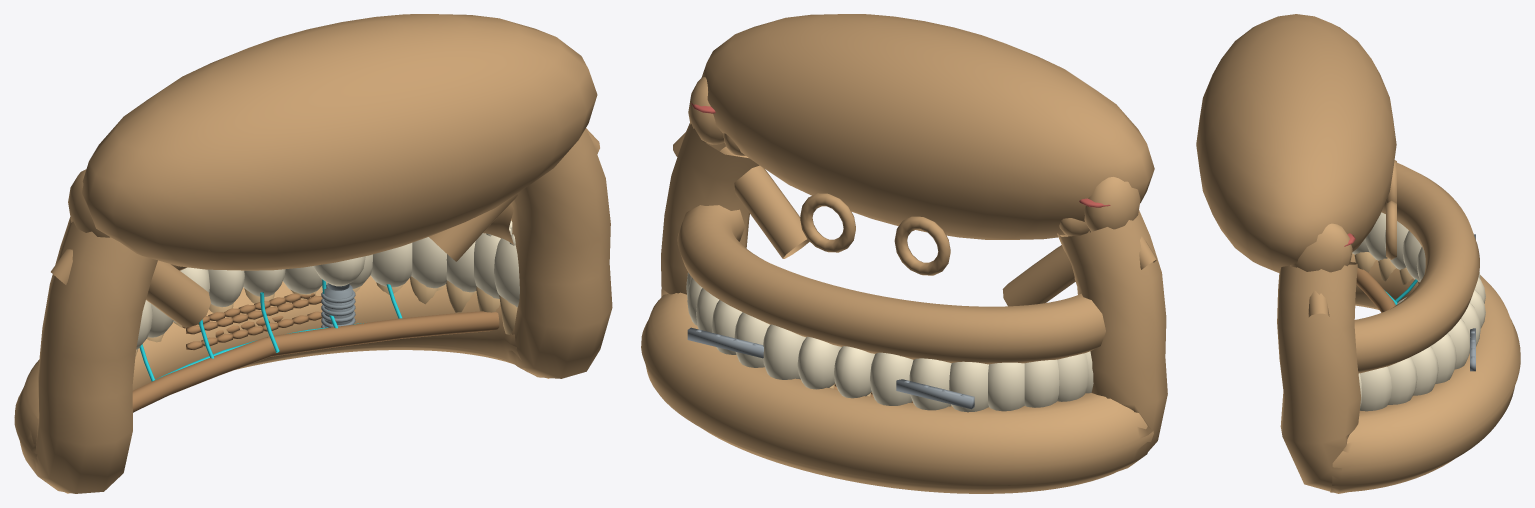
Rendered from jaw.glb.
3 renders of one model, left to right at view 1: azimuth 30°, elevation 25°; view 2: azimuth 150°, elevation 25°; view 3: azimuth 270°, elevation 25°, orthographic. The views are drawn at different scales.
Parts seen in each view (by area): view 1: Skull_Cranial_Vault, Mandible_Body_Right, Mandible_Body, Inferior_Alveolar_Canal_Wall.001, Inferior_Alveolar_Canal_Wall, Maxilla_Buttress, Maxilla_Buttress.001, Tooth_13_Crown, Tooth_12_Crown, Tooth_16_Crown, Tooth_15_Crown, Tooth_08_Crown (+6 smaller); view 2: Skull_Cranial_Vault, Mandible_Body_Right, Mandible_Body, Maxilla_Alveolar_Arch, Maxilla_Buttress.001, Maxilla_Buttress, Mandible_Process, Skull_Orbit_Rim, Skull_Orbit_Rim.001, Tooth_07_Crown, Tooth_10_Crown, Tooth_09_Crown (+12 smaller); view 3: Skull_Cranial_Vault, Mandible_Body, Maxilla_Alveolar_Arch, Mandible_Body_Right, Mandible_Process.002, Tooth_15_Crown, Tooth_14_Crown, Tooth_13_Crown, Tooth_12_Crown, Inferior_Alveolar_Canal_Wall, Tooth_11_Crown, Tooth_03_Crown (+5 smaller).
Boxes of the visible parts, box(x1,y1,x2,y2) form: Skull_Cranial_Vault: box(82, 14, 597, 270); Mandible_Body_Right: box(15, 217, 549, 493); Mandible_Body: box(14, 128, 612, 493); Inferior_Alveolar_Canal_Wall.001: box(266, 311, 499, 356); Inferior_Alveolar_Canal_Wall: box(132, 337, 273, 412); Maxilla_Buttress: box(146, 260, 210, 327); Maxilla_Buttress.001: box(429, 193, 517, 261); Tooth_13_Crown: box(411, 237, 446, 288); Tooth_12_Crown: box(370, 243, 412, 287); Tooth_16_Crown: box(494, 227, 519, 307); Tooth_15_Crown: box(474, 227, 509, 298); Tooth_08_Crown: box(208, 269, 244, 307); Skull_Cranial_Vault: box(701, 14, 1154, 239); Mandible_Body_Right: box(641, 210, 1167, 493); Mandible_Body: box(641, 123, 1153, 490); Maxilla_Alveolar_Arch: box(677, 205, 1105, 364); Maxilla_Buttress.001: box(720, 146, 809, 258); Maxilla_Buttress: box(1002, 230, 1090, 306); Mandible_Process: box(1084, 177, 1140, 231); Skull_Orbit_Rim: box(894, 216, 950, 275); Skull_Orbit_Rim.001: box(800, 193, 855, 252); Tooth_07_Crown: box(870, 352, 913, 405); Tooth_10_Crown: box(763, 324, 805, 379); Tooth_09_Crown: box(797, 336, 841, 389); Skull_Cranial_Vault: box(1196, 14, 1396, 272); Mandible_Body: box(1277, 254, 1520, 493); Maxilla_Alveolar_Arch: box(1354, 162, 1479, 373); Mandible_Body_Right: box(1330, 260, 1520, 492); Mandible_Process.002: box(1290, 223, 1352, 272); Tooth_15_Crown: box(1360, 366, 1391, 411); Tooth_14_Crown: box(1388, 357, 1417, 404); Tooth_13_Crown: box(1411, 346, 1438, 395); Tooth_12_Crown: box(1431, 333, 1456, 383); Inferior_Alveolar_Canal_Wall: box(1356, 268, 1395, 312); Tooth_11_Crown: box(1448, 318, 1470, 369); Tooth_03_Crown: box(1365, 212, 1387, 260).
Bounding box in the file's own units: 8.16 × 5.74 × 5.02.
